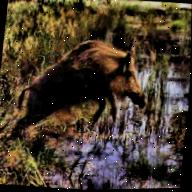boar: (11, 37, 154, 150)
